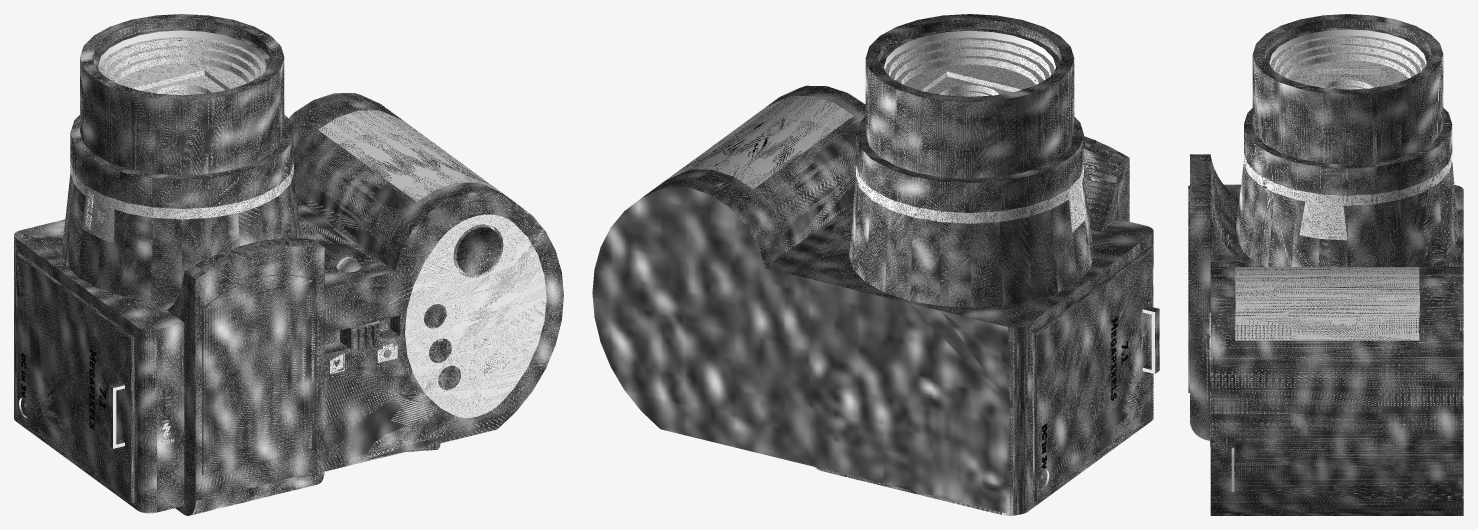
File: model_scale.obj
3 views of the same model, side by side, from view 1: azimuth 30°, elevation 25°; view 2: azimuth 150°, elevation 25°; view 3: azimuth 270°, elevation 25° (orthographic). The views are drawn at different scales.
Parts seen in each view (by area): view 1: mesh89_mesh89-geometry; view 2: mesh89_mesh89-geometry; view 3: mesh89_mesh89-geometry.
Boxes of the visible parts, bbox=[...] form: mesh89_mesh89-geometry: bbox=[14, 14, 563, 515]; mesh89_mesh89-geometry: bbox=[592, 14, 1159, 515]; mesh89_mesh89-geometry: bbox=[1188, 14, 1463, 515].
Bounding box in the file's own units: 0.1921 × 0.1625 × 0.1107.
